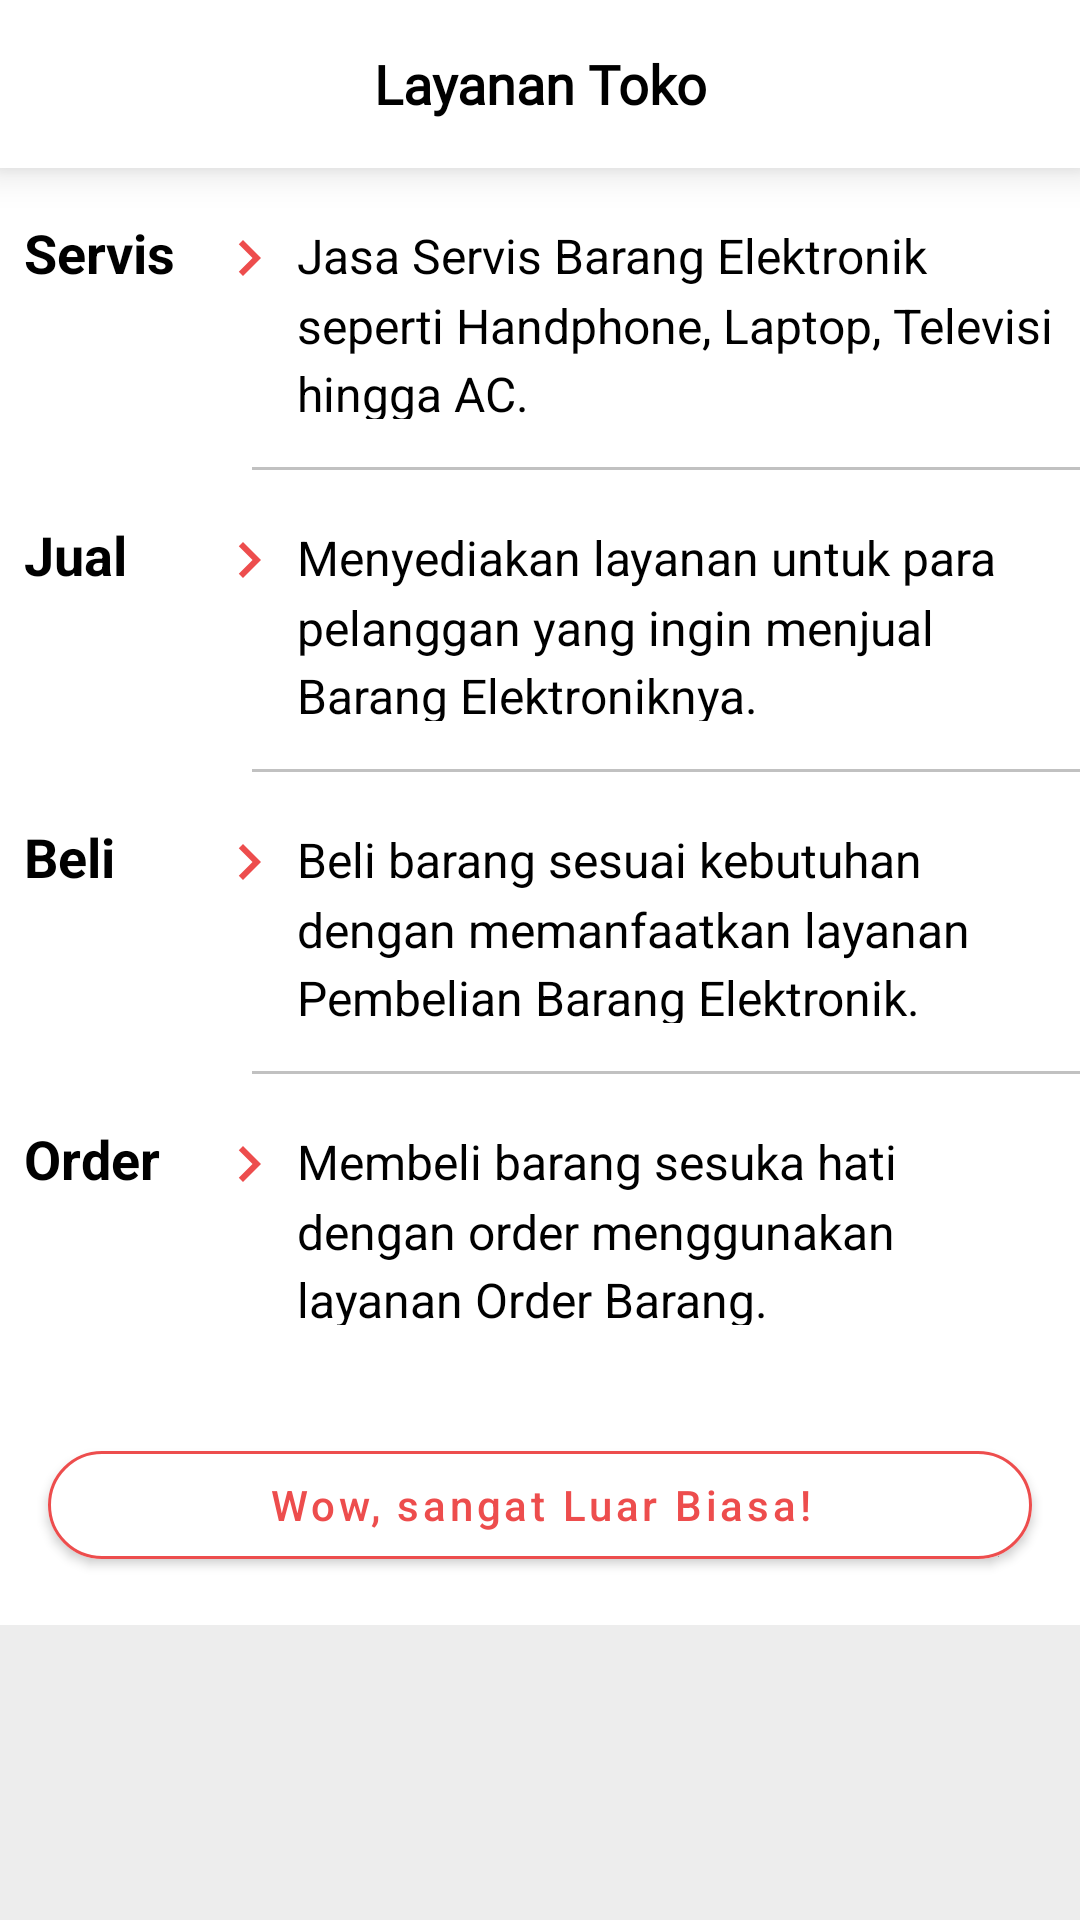

Named icons in this screenshot (1080 × 1920) and their centers, [x,y]:
next: [250,258], [250,560], [250,862], [250,1164]
